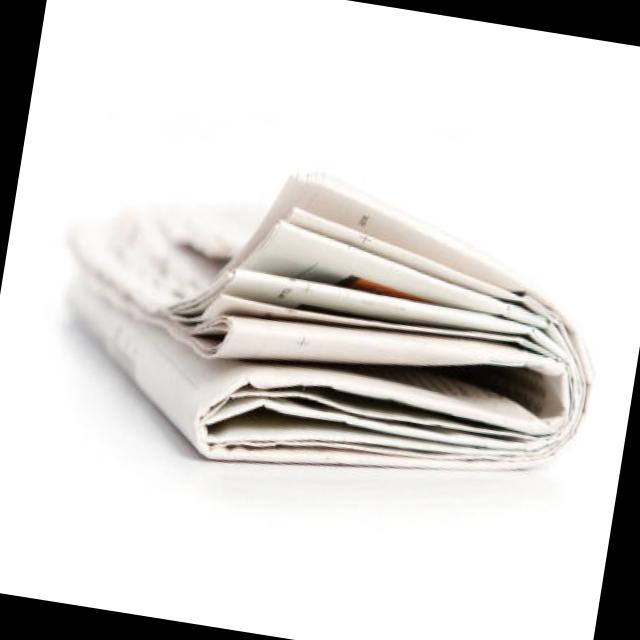electronic: (38, 133, 619, 518)
